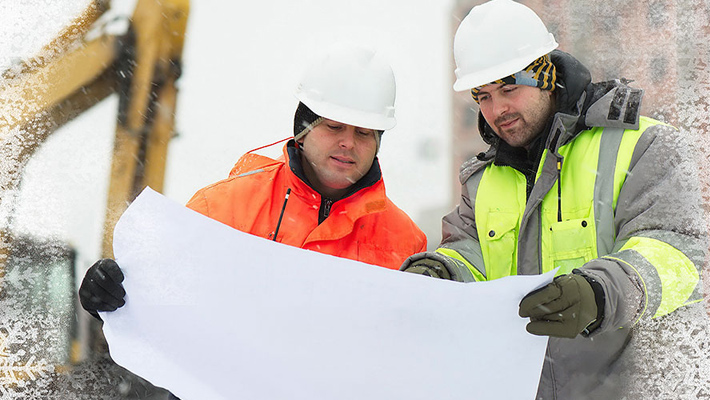Hard Hat: (449, 1, 559, 93), (291, 48, 399, 134)
High Viz: (478, 104, 651, 361)
